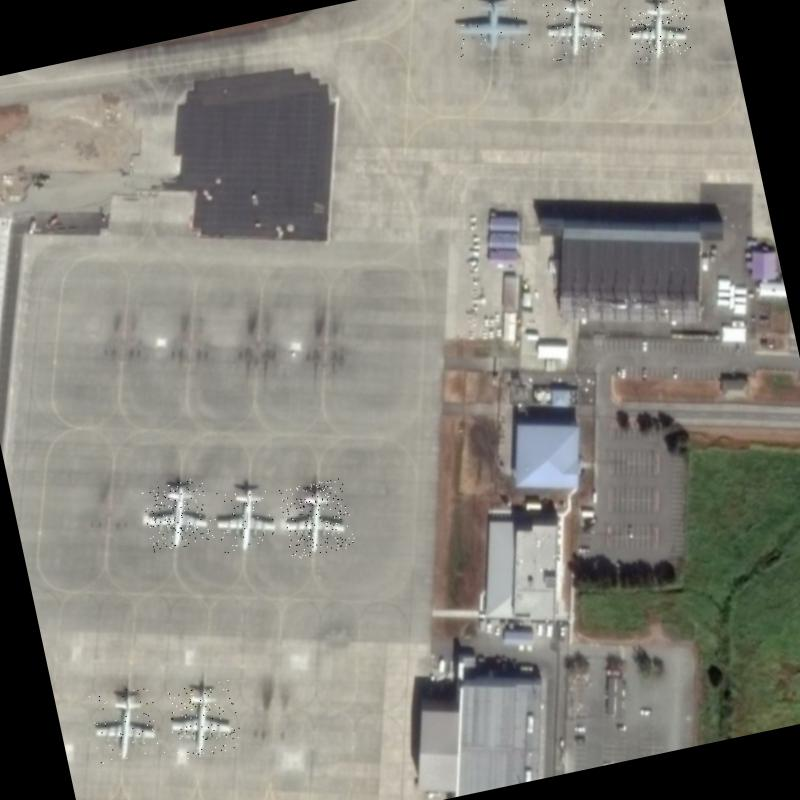A2: (448, 0, 538, 62)
A9: (162, 678, 243, 762), (85, 684, 165, 766), (278, 477, 356, 560), (140, 477, 215, 554), (208, 482, 280, 558), (624, 0, 695, 63), (539, 0, 609, 62)
